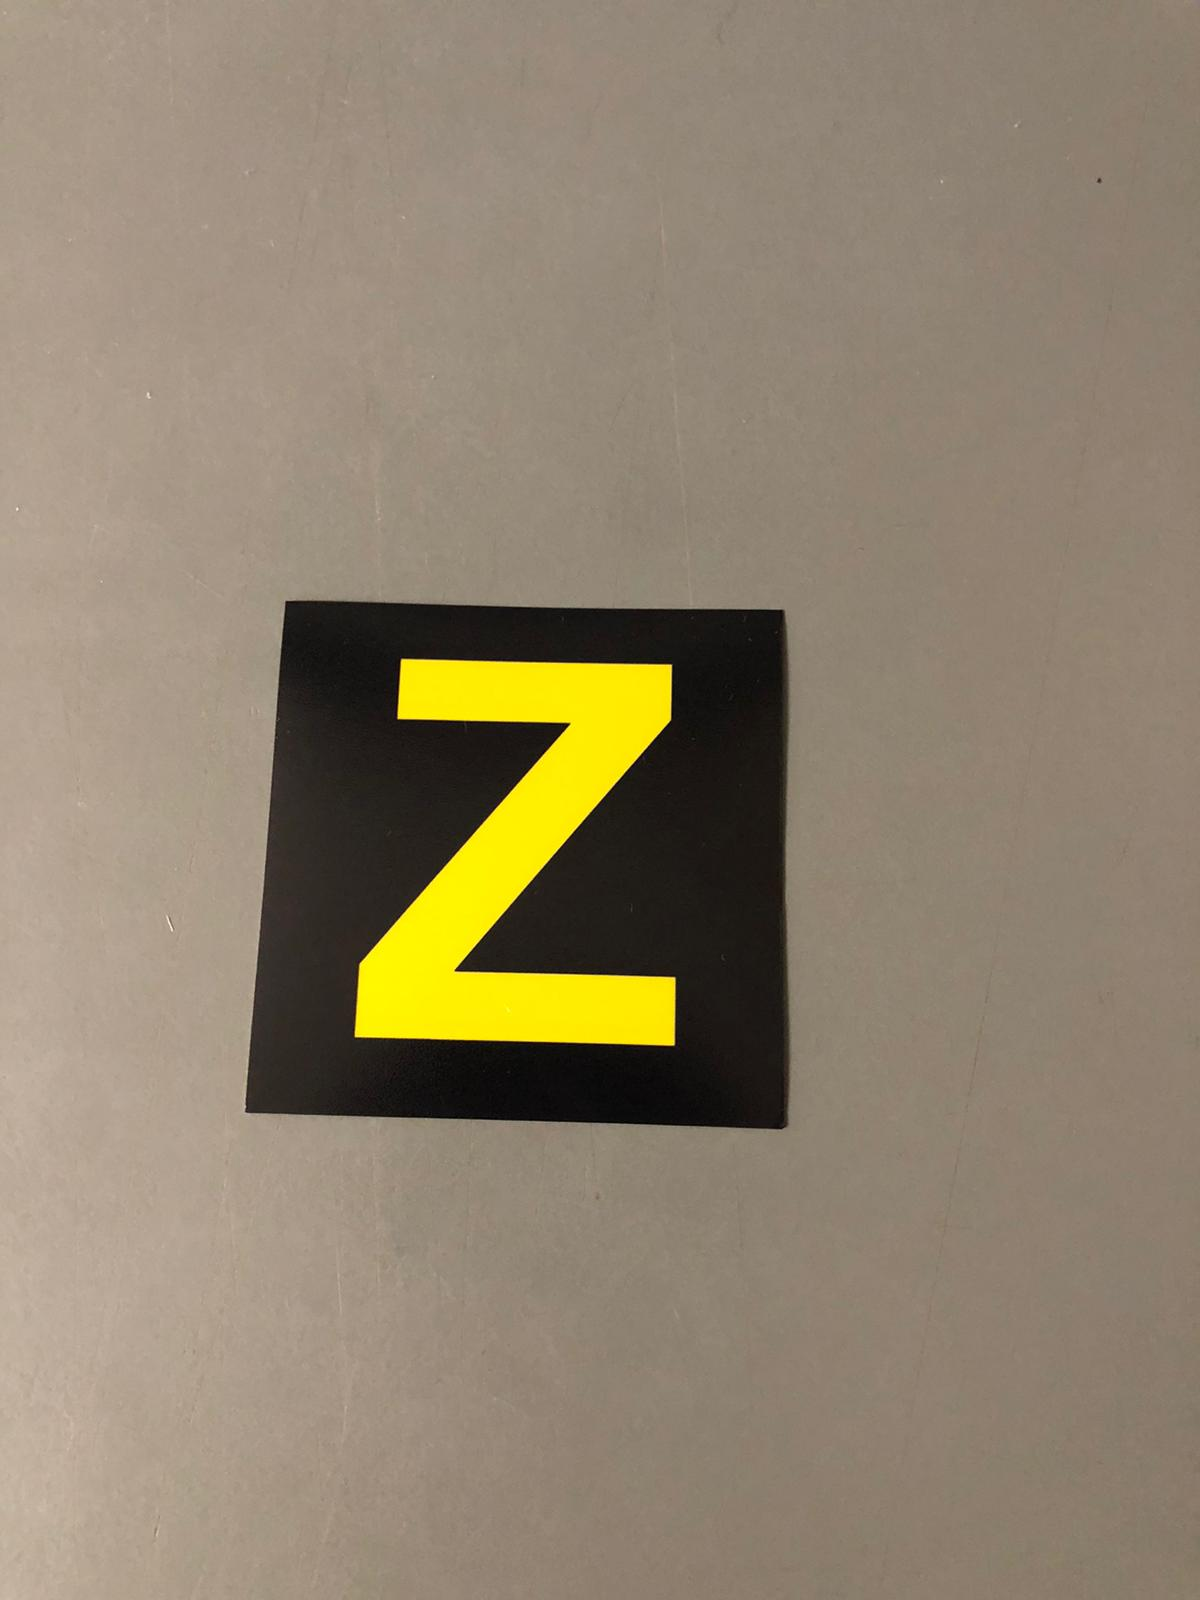Z: (279, 609, 787, 1117)
